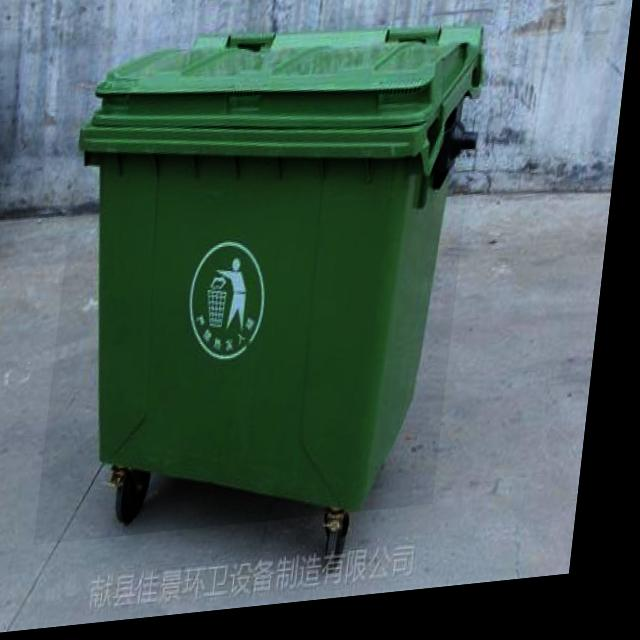garbage_bin: (46, 14, 489, 547)
